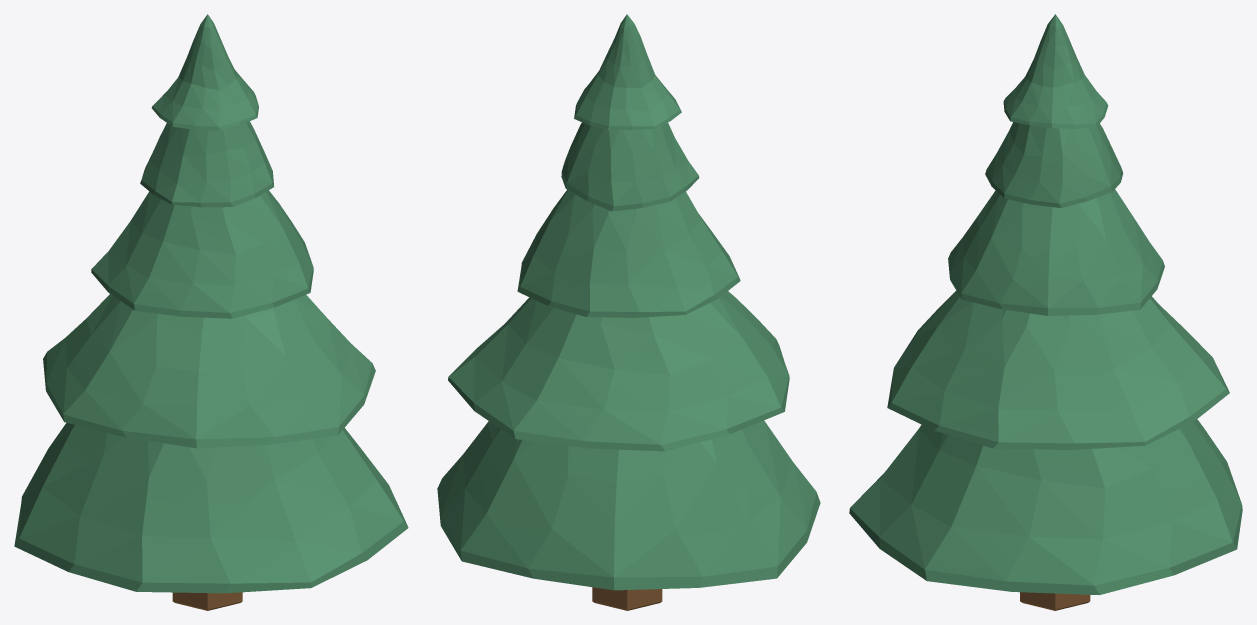
The model's file is tree.glb.
3 renders of one model, left to right at view 1: azimuth 30°, elevation 25°; view 2: azimuth 150°, elevation 25°; view 3: azimuth 270°, elevation 25°, orthographic.
Parts seen in each view (by area): view 1: Object_71, Object_72; view 2: Object_71, Object_72; view 3: Object_71, Object_72.
Part boxes in pixels (x1,y1,x2,y2): Object_71: (14,14,408,593); Object_72: (172,592,242,610); Object_71: (437,14,820,590); Object_72: (592,587,662,610); Object_71: (849,14,1242,595); Object_72: (1020,592,1090,610).
Size of the model in its own units: 2.42 by 3.96 by 2.43.
